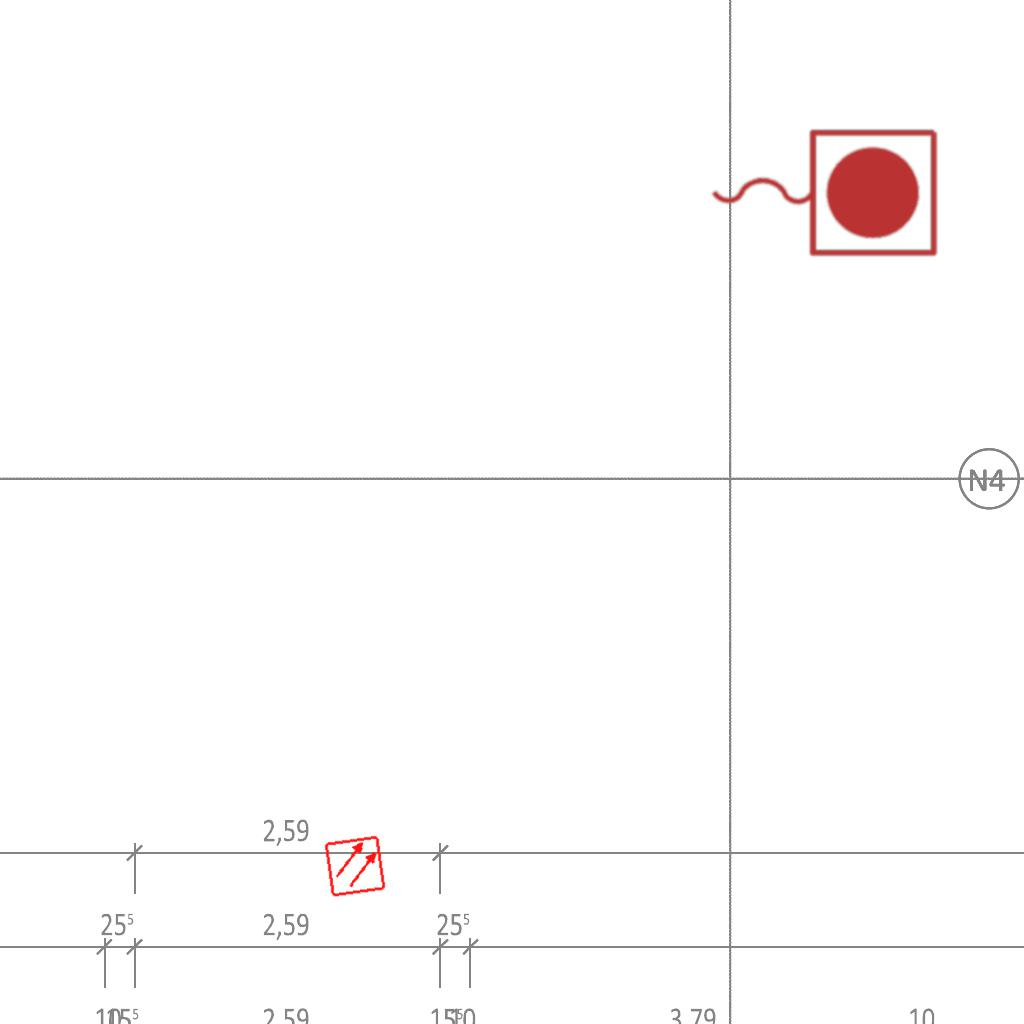RMO_Rauchmelder_optischer: (323, 834, 387, 898)
Zugtaster: (701, 119, 945, 263)
